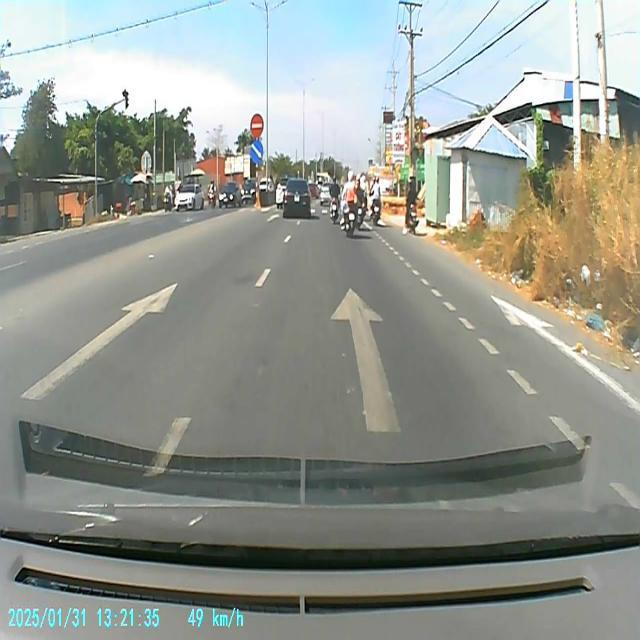102-cam-di-nguoc-chieu: (250, 112, 264, 138)
302a-huong-phai-di-vong-chuong-ngai-vat-1: (249, 141, 263, 163)
